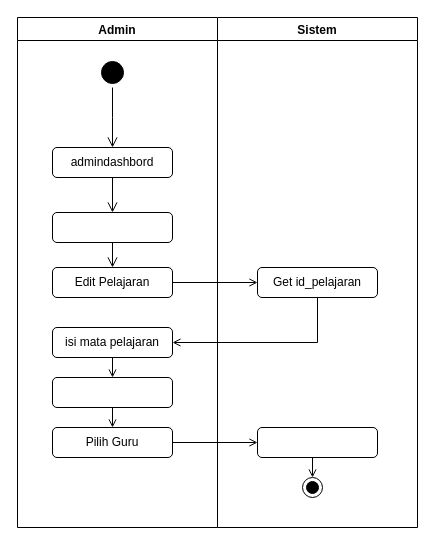
This 435x545 diagram has some shape labels left out. Each missing label, with the centre of its shape:
"Berhasil edit matpel" goes at (x=317, y=442).
"Pilih kelas" goes at (x=112, y=392).
"pilih menu kelas pelajaran" goes at (x=112, y=227).
